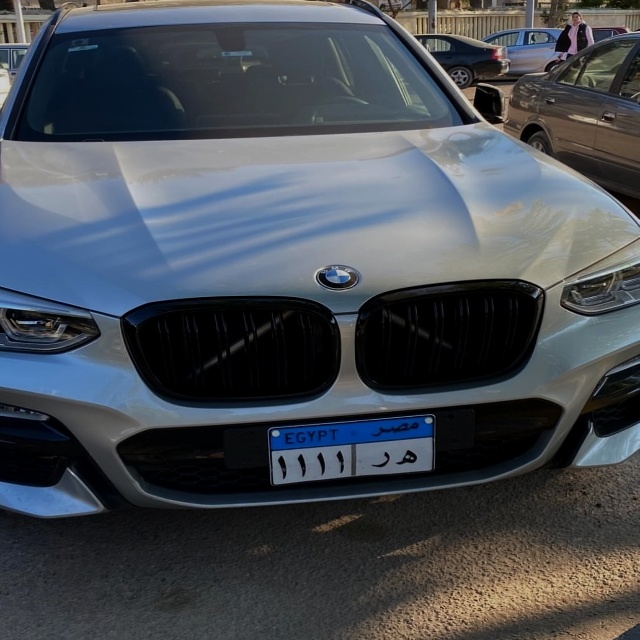License Plate: (265, 413, 438, 489)
